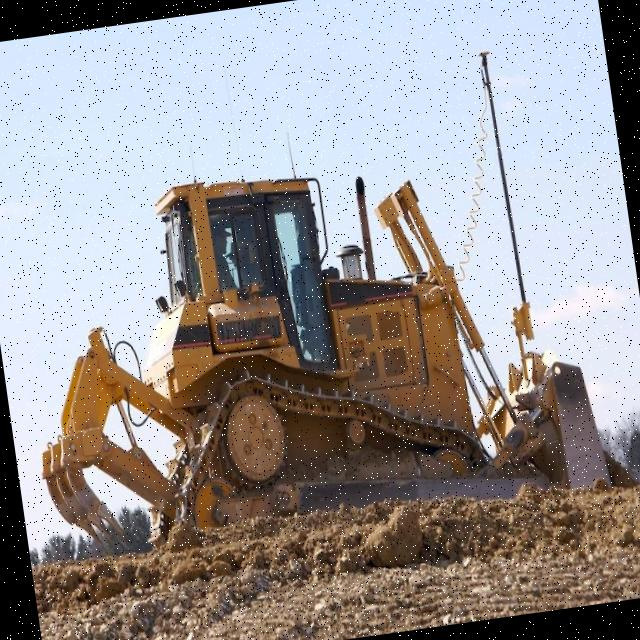Bulldozer: (0, 104, 619, 593)
